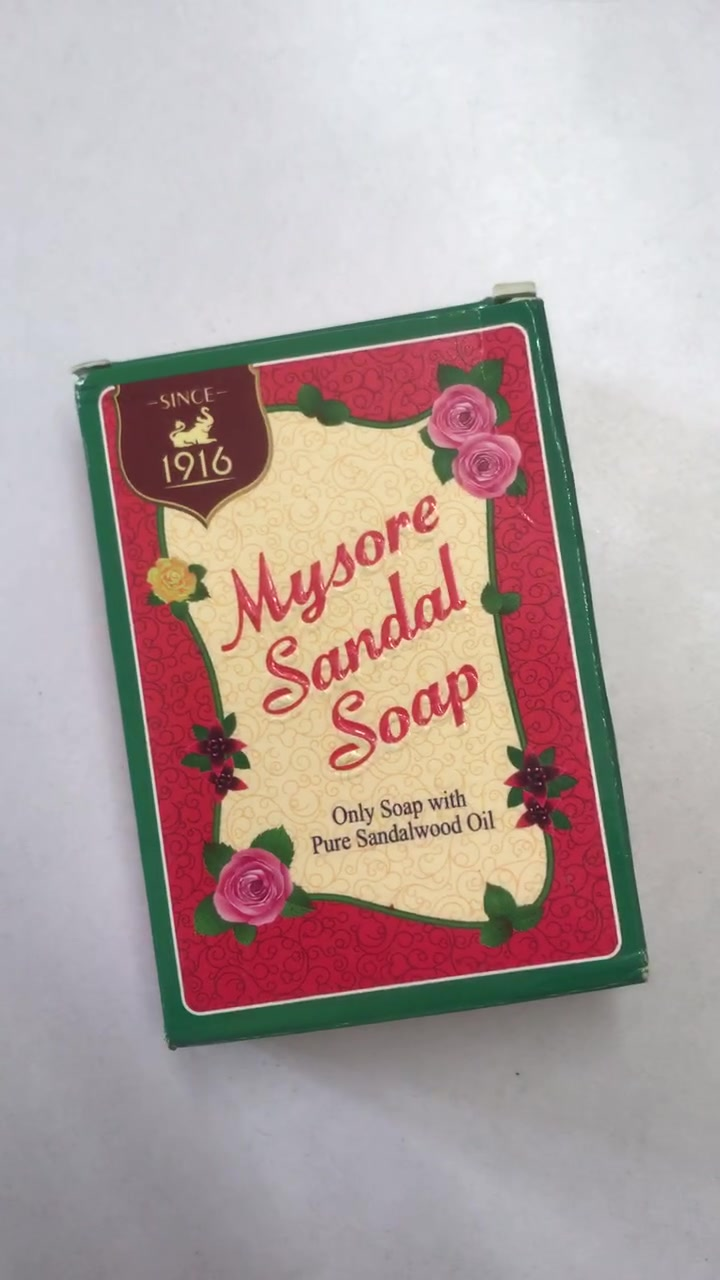mysore sandal soap: (89, 305, 648, 1046)
